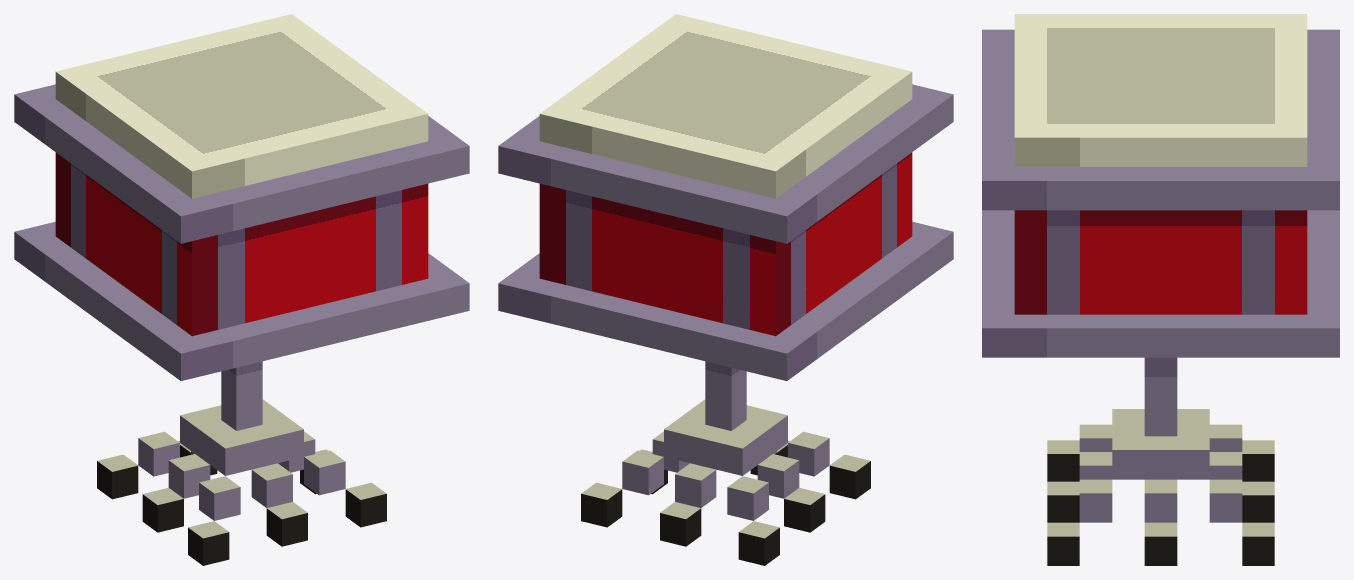
File: int_snareao.fezao.glb
The picture shows the model from 3 angles, left to right: view 1: azimuth 30°, elevation 25°; view 2: azimuth 150°, elevation 25°; view 3: azimuth 270°, elevation 25°; orthographic projection. The views are drawn at different scales.
Visible parts, largest first — view 1: INT_SNAREAO; view 2: INT_SNAREAO; view 3: INT_SNAREAO.
Boxes of the visible parts, x1,y1,x2,y2 form: INT_SNAREAO: (14, 14, 469, 565); INT_SNAREAO: (498, 14, 953, 565); INT_SNAREAO: (982, 14, 1339, 565).
Size of the model in its own units: 0.6875 by 0.9375 by 0.6875.
1 material, 1 textured.
